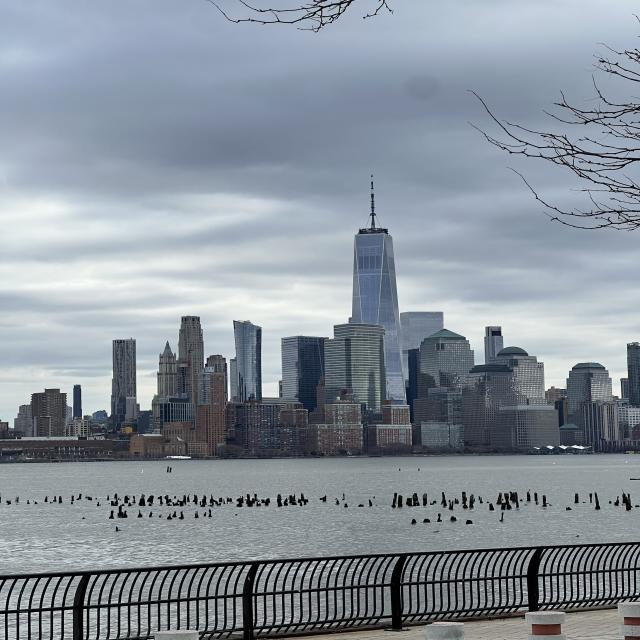WTC: (350, 174, 400, 324)
